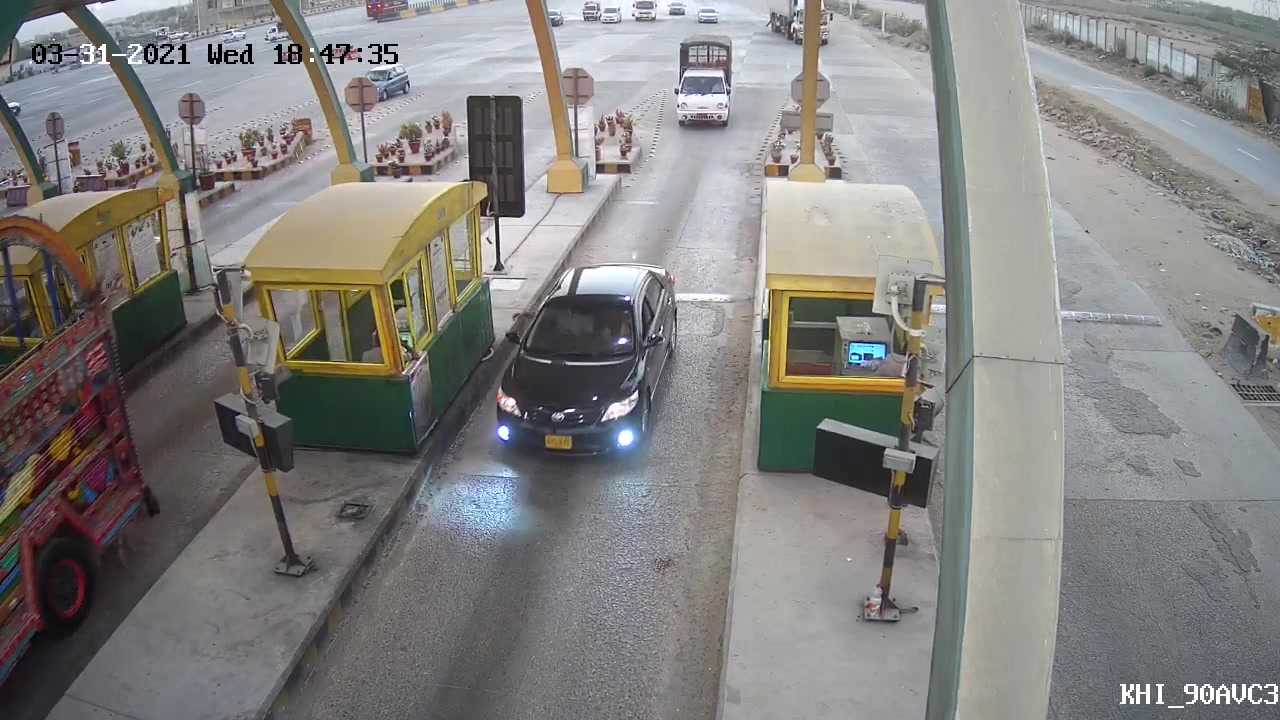F1: (481, 255, 690, 472)
